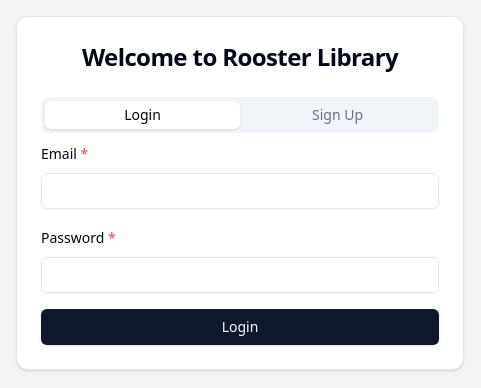
Test: LoginPage › Login Submission › shows loading state during submission
Type "test@example.com" into the field labelled "Email *" at point(240, 191), box [41,173,439,209]
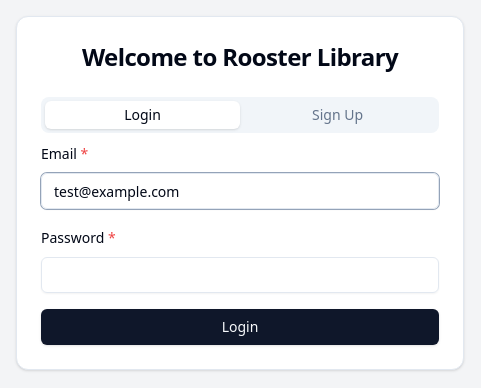
Type "password123" into the password field labelled "Password *" at point(240, 275), box [41,257,439,293]
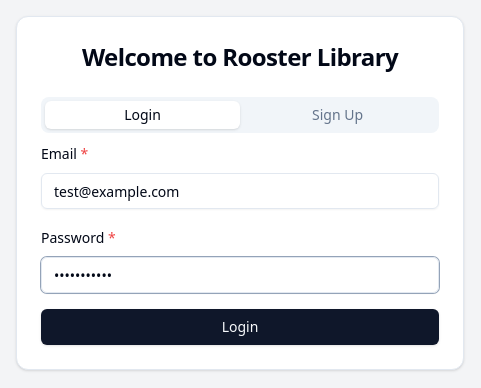
Click the button "Login" at point(240, 327), box [41,309,439,345]
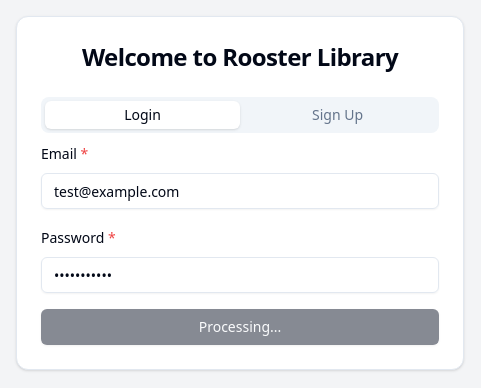
Expected: the button "Processing..." is disabled, [41,309,439,345]
